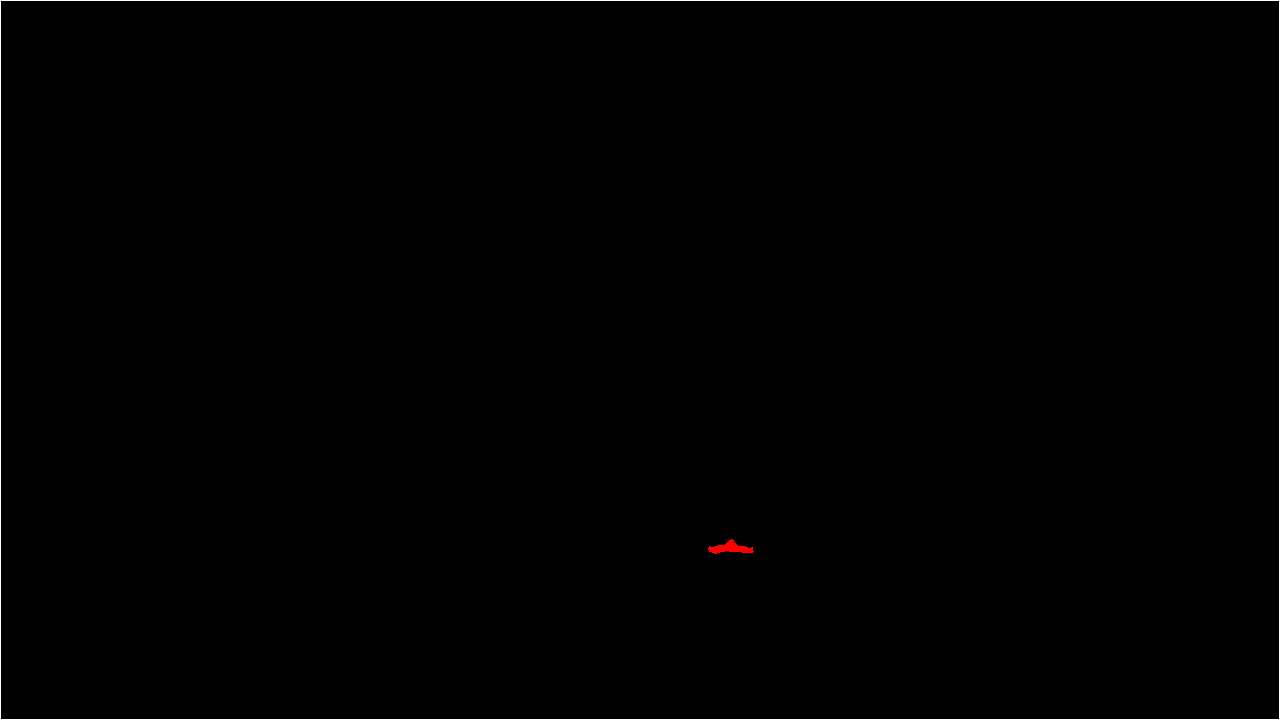drone: (702, 531, 761, 573)
